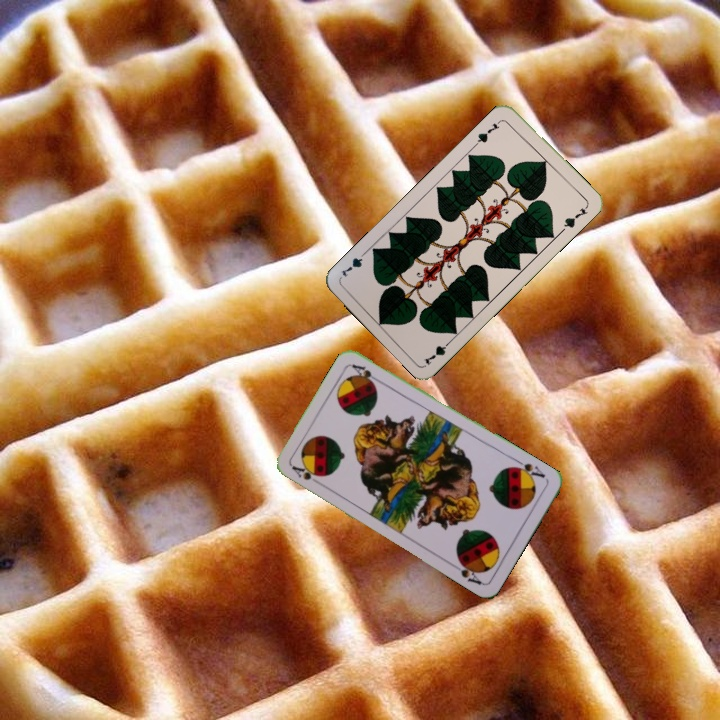G7: (420, 335, 455, 367), (471, 116, 504, 148)
SA: (509, 456, 548, 483), (287, 461, 325, 488)
